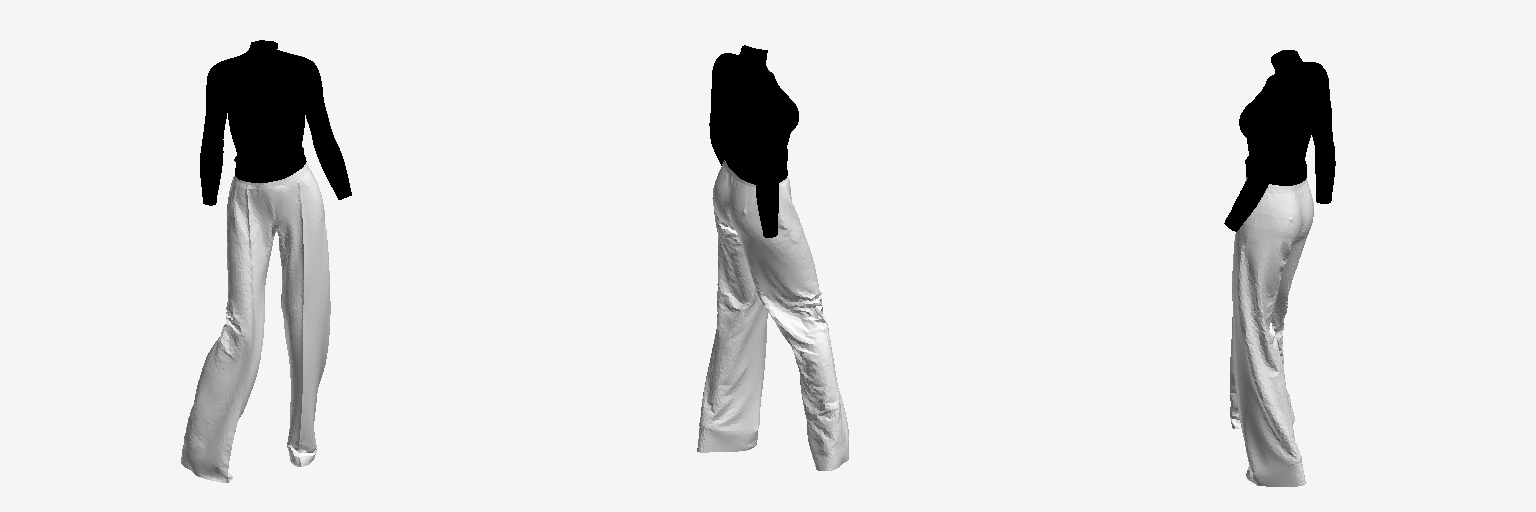
Rendered from DA_HighNeck+WidePants_0000103.obj.
3 views of the same model, side by side, from view 1: azimuth 30°, elevation 25°; view 2: azimuth 150°, elevation 25°; view 3: azimuth 270°, elevation 25° (orthographic).
Bounding box in the file's own units: 0.5877 × 1.62 × 0.3962.